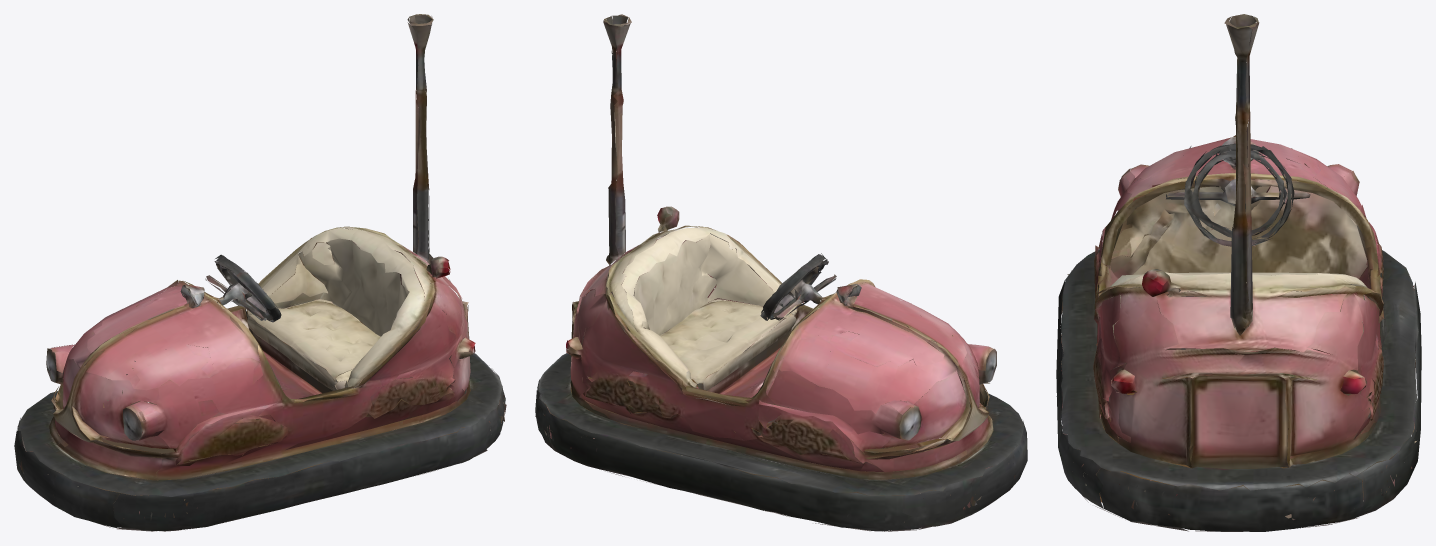
File: park-bumper-pink.glb
3 renders of one model, left to right at view 1: azimuth 30°, elevation 25°; view 2: azimuth 150°, elevation 25°; view 3: azimuth 270°, elevation 25°, orthographic. The views are drawn at different scales.
Parts seen in each view (by area): view 1: geometry_0; view 2: geometry_0; view 3: geometry_0.
Part boxes in pixels (x1,y1,x2,y2): geometry_0: (14,14,506,531); geometry_0: (535,14,1027,531); geometry_0: (1056,14,1421,531).
Bounding box in the file's own units: 1.2 × 1.01 × 0.6929.
1 material, 1 textured.
